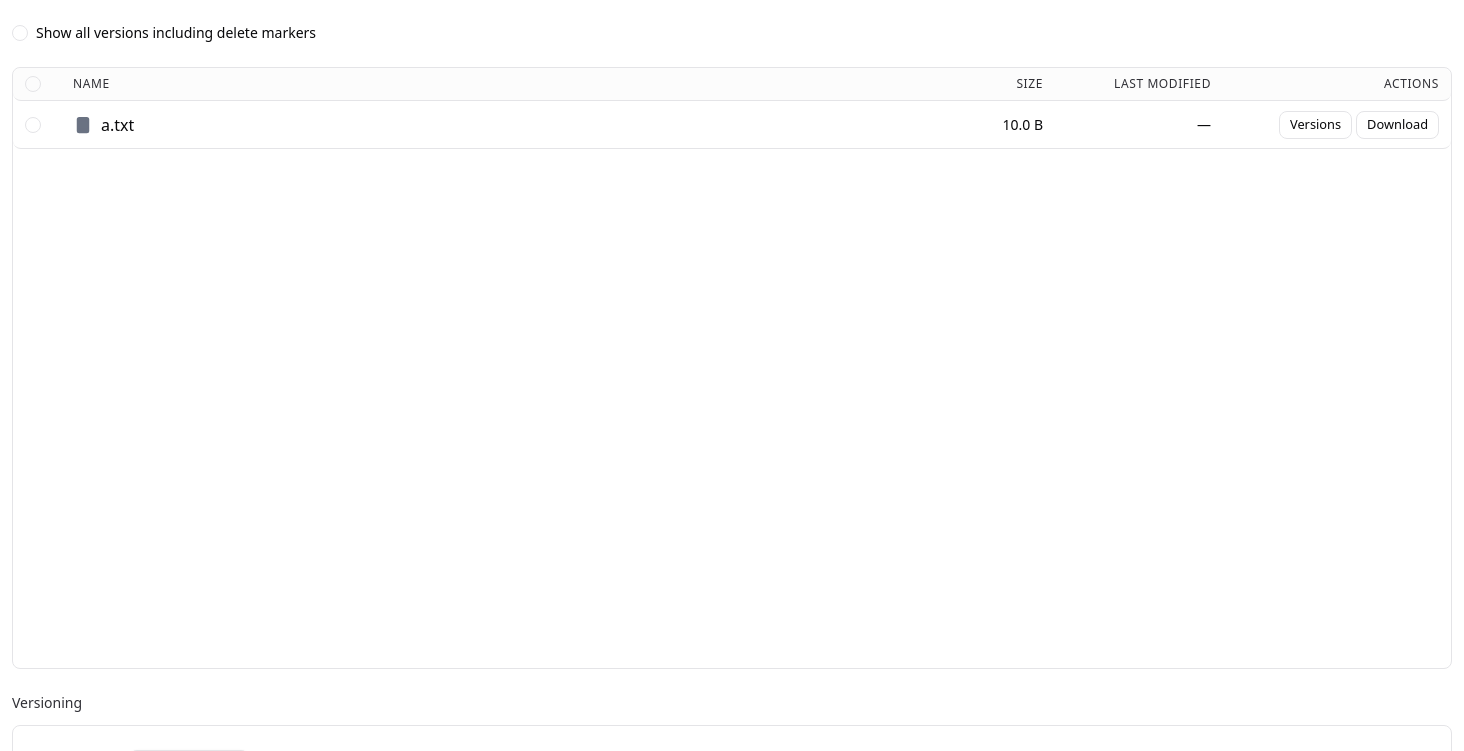
Test: /files/$regionId/b/$bid — versioning UI (v1.10.0b) › clicking a row's Versions button opens the versions panel for that key
The image size is (1464, 751).
Click the button with test id "file-versions-a.txt".
click(1316, 124)  # box 1279,110 -> 1352,138
(page scrolled)
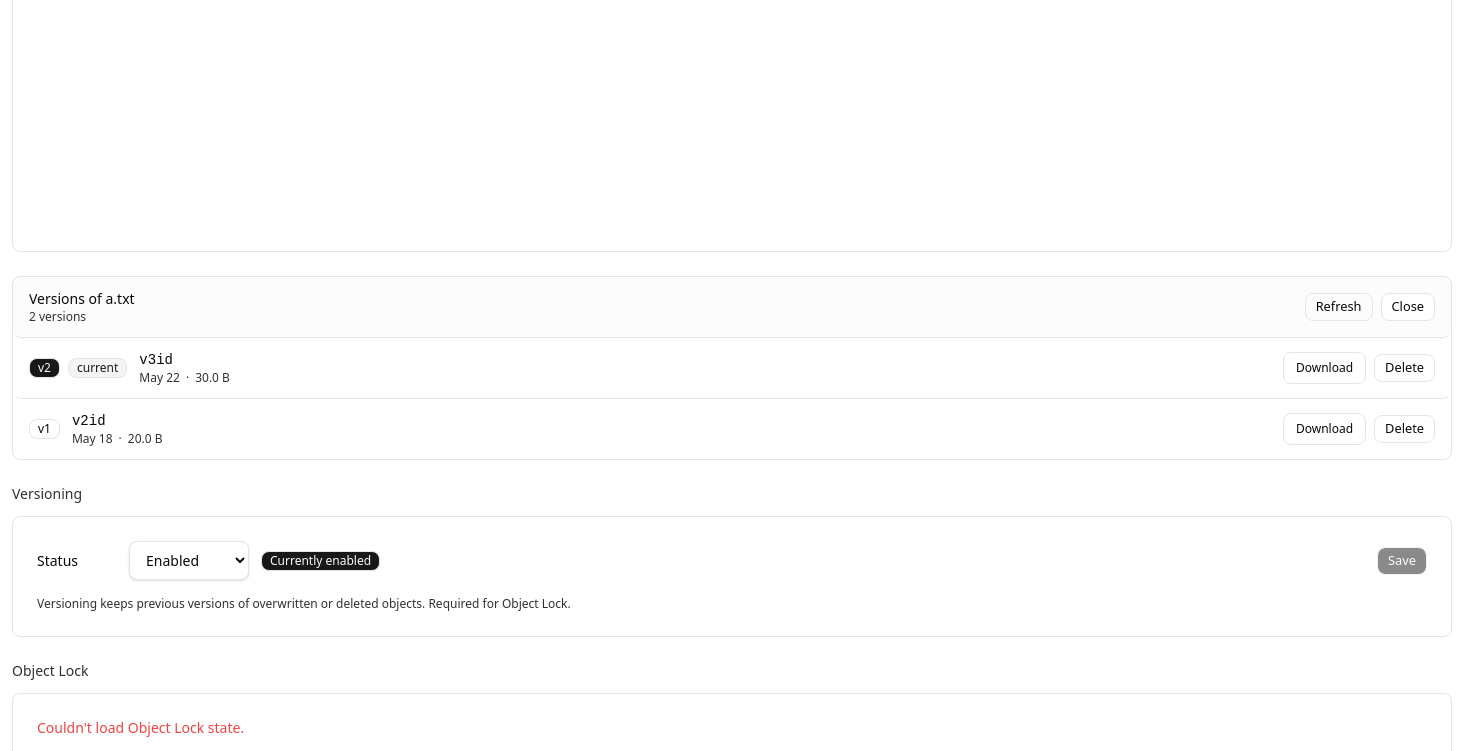
Check: the element with test id "object-versions-panel" is shown, box 12,276 -> 1452,460
Check: the element with test id "object-version-row-v3id" is shown, box 13,338 -> 1451,399
Check: the element with test id "object-version-row-v2id" is shown, box 29,413 -> 1435,447
